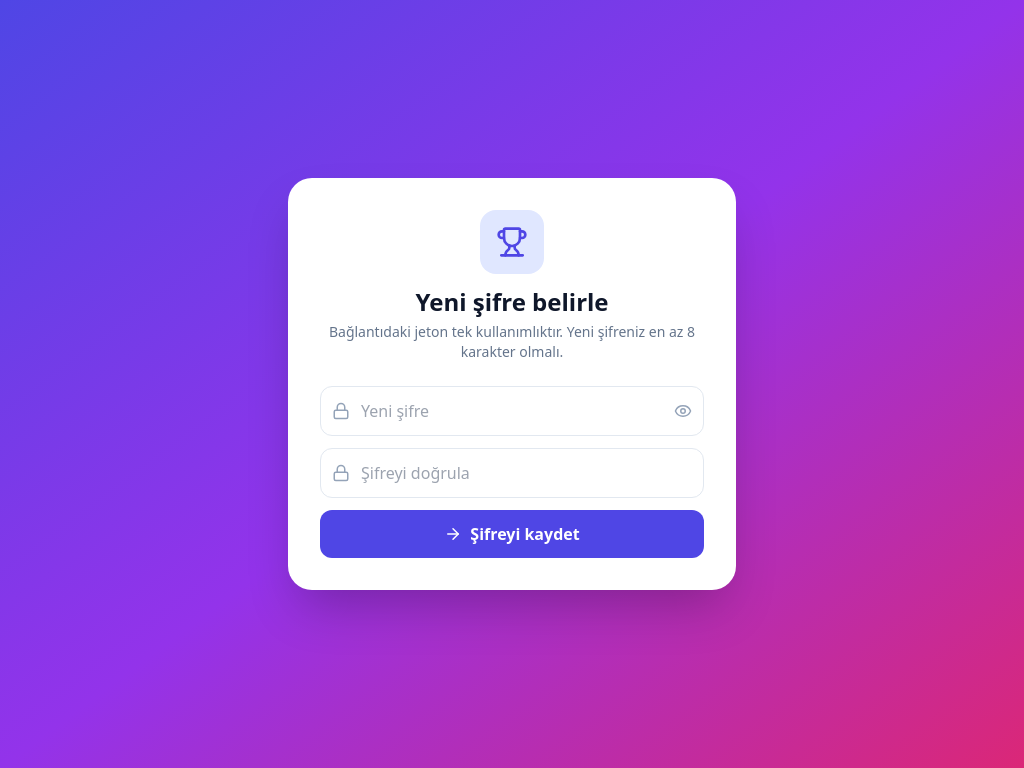
ResetPasswordScreen › keeps the form and shows the API error when the token is spent
In the password field with placeholder "Yeni şifre": (512, 411) [320,386,704,436], type "Sup3rSecret!"
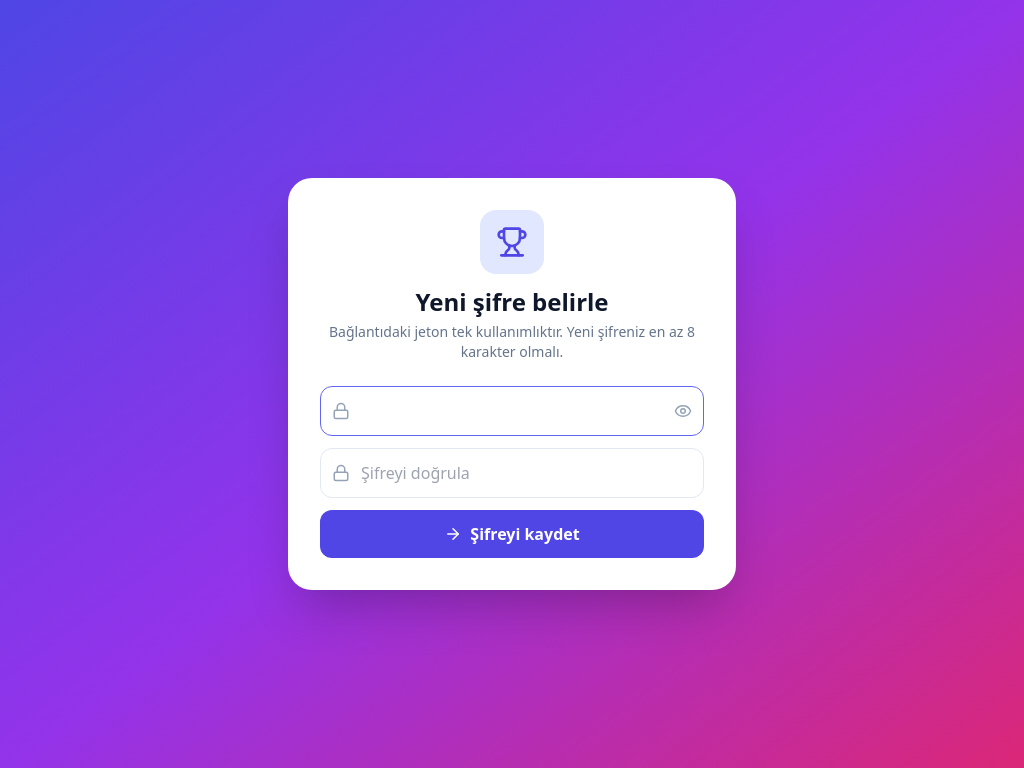
In the password field with placeholder "Şifreyi doğrula": (512, 473) [320,448,704,498], type "Sup3rSecret!"
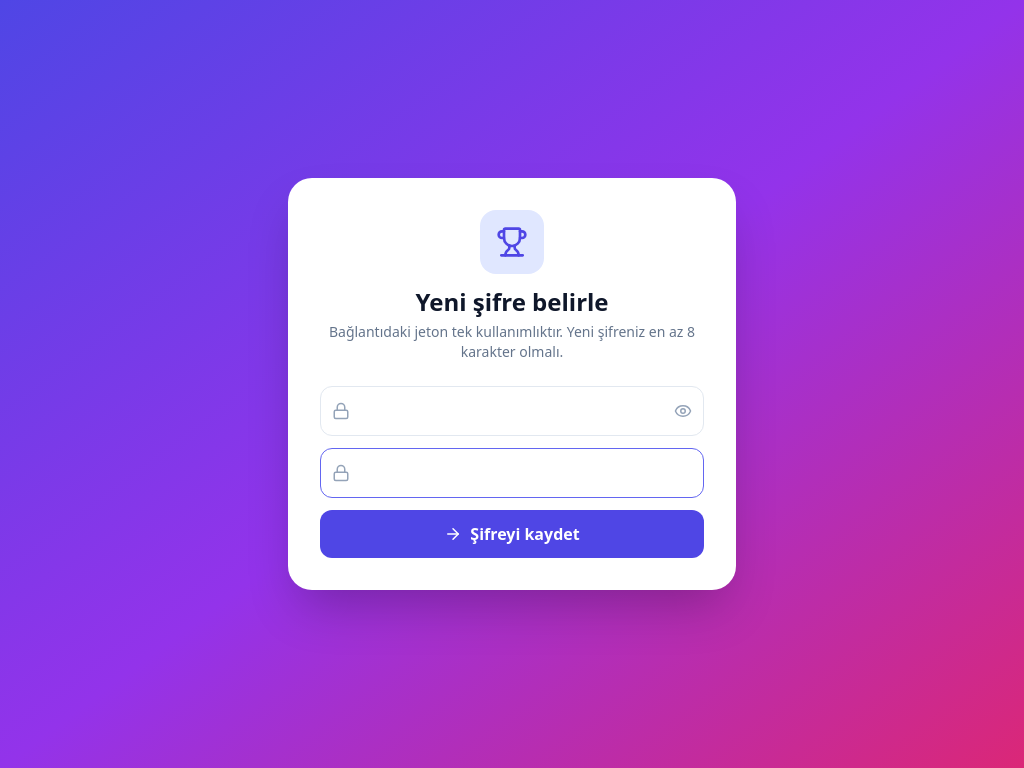
Click the button "Şifreyi kaydet": (512, 534) [320,510,704,558]
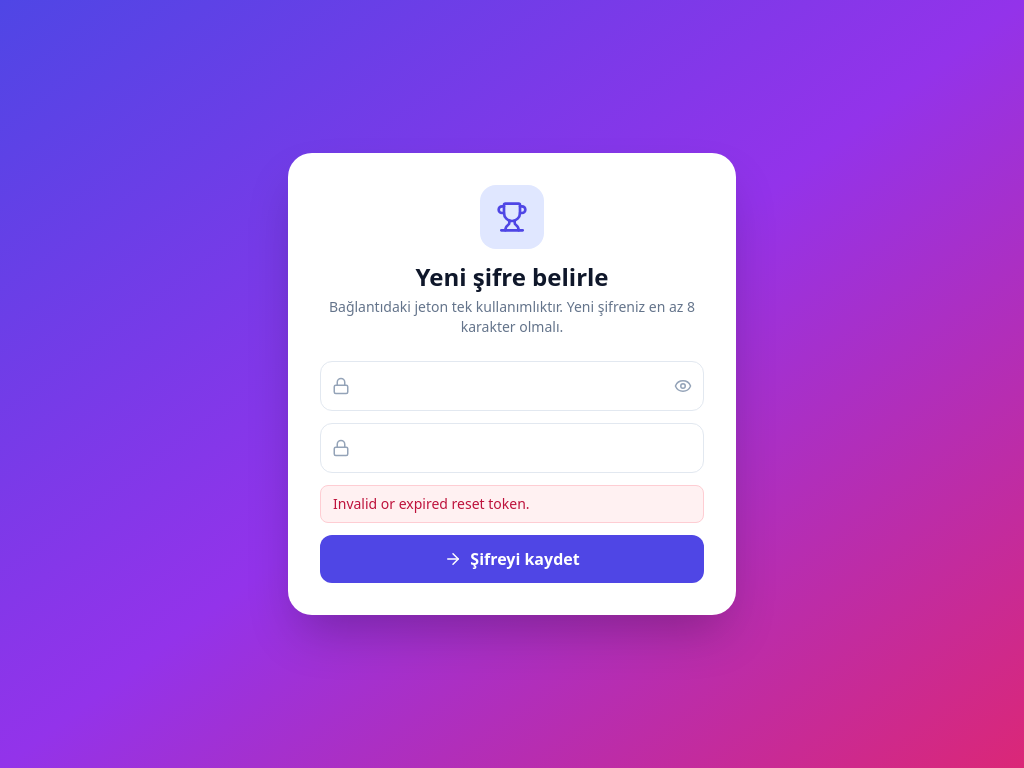
Check: the button "Şifreyi kaydet" is shown, box [320,535,704,583]
Check: the text "Invalid or expired reset token." is shown, box [320,485,704,523]
